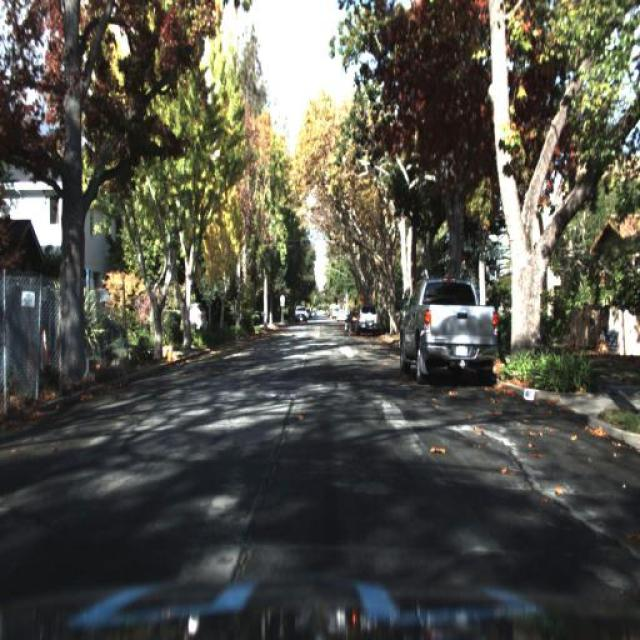car: (388, 261, 507, 399), (395, 272, 501, 383), (356, 300, 380, 336), (358, 306, 384, 338), (346, 308, 360, 328)
